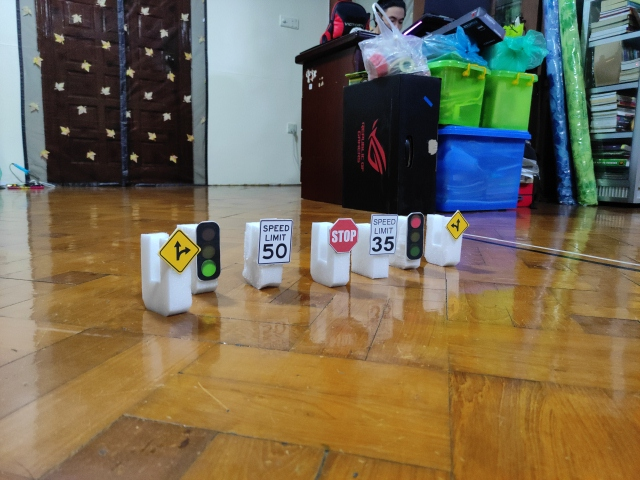Green Traffic Light: (196, 220, 221, 280)
Red Traffic Light: (406, 212, 426, 260)
Speed Limit 35: (369, 213, 398, 255)
Speed Limit 50: (257, 217, 292, 262)
Stop Sign: (328, 218, 359, 253)
Straight Or Left Sign: (446, 209, 469, 241)
Straight Or Right Sign: (159, 230, 200, 273)
